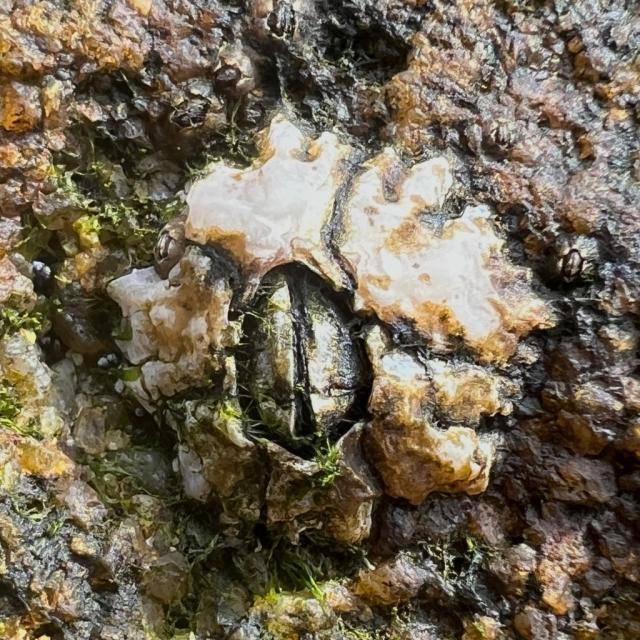barnacles: (113, 97, 563, 555), (530, 224, 612, 300)
